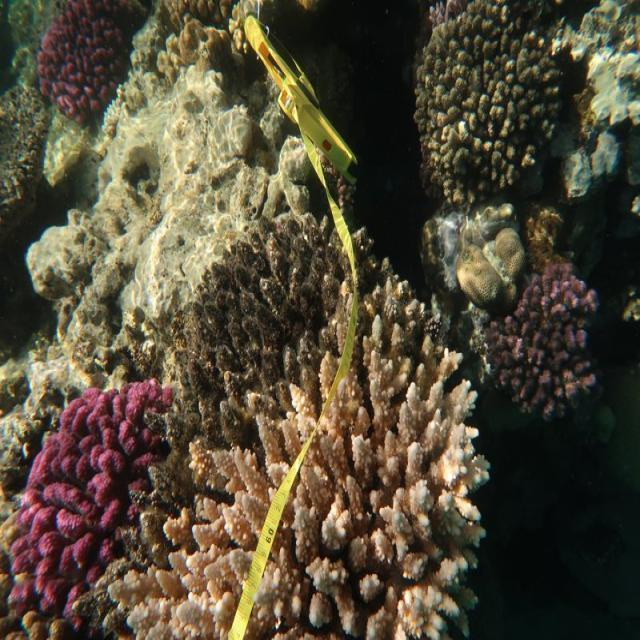Dead Coral: (190, 232, 345, 362)
Healthy Coral: (195, 386, 493, 631), (7, 365, 177, 607), (493, 255, 611, 426), (33, 0, 139, 115)
